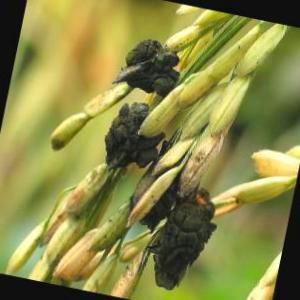Leaf_Scald: (151, 187, 221, 291), (105, 106, 155, 172), (130, 45, 168, 93)
